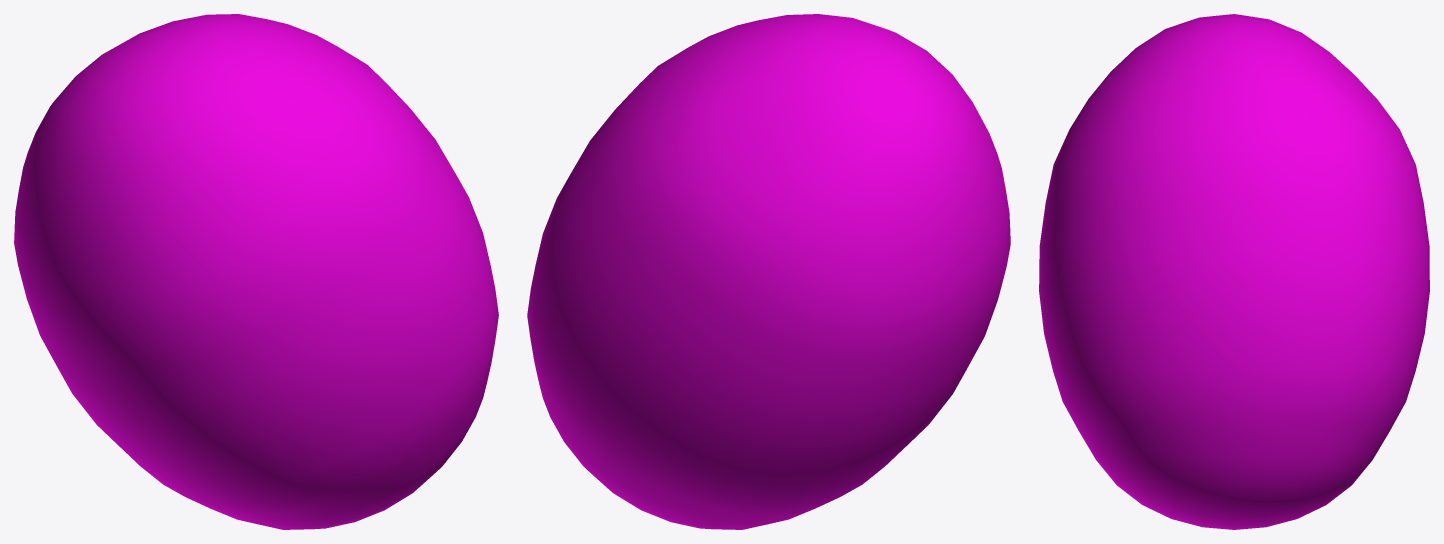
Rendered from model_baloon_lv_1_6.fbx.
3 renders of one model, left to right at view 1: azimuth 30°, elevation 25°; view 2: azimuth 150°, elevation 25°; view 3: azimuth 270°, elevation 25°, orthographic. The views are drawn at different scales.
Visible parts, largest first — view 1: lv_1_6; view 2: lv_1_6; view 3: lv_1_6.
Boxes of the visible parts, left/top/right/bottom form: lv_1_6: left=14, top=14, right=498, bottom=529; lv_1_6: left=527, top=14, right=1010, bottom=529; lv_1_6: left=1039, top=14, right=1429, bottom=529.
Bounding box in the file's own units: 34.55 × 39.44 × 31.39.
